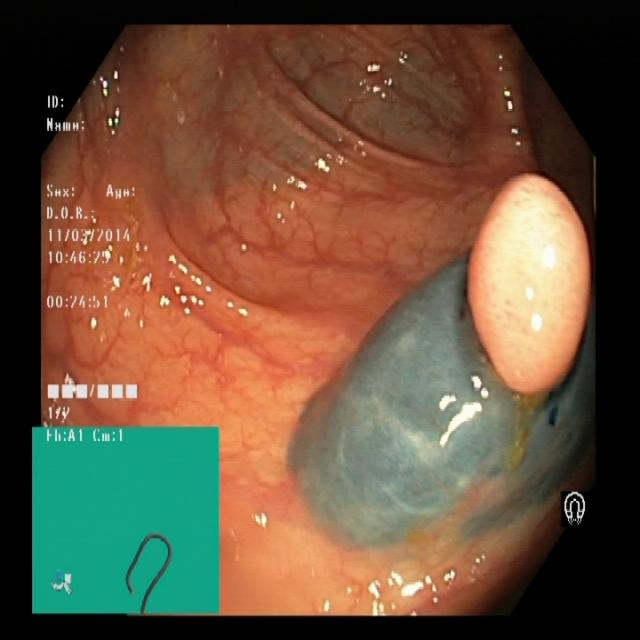diedpolyp: (307, 264, 593, 532)
location: (34, 426, 221, 614)
